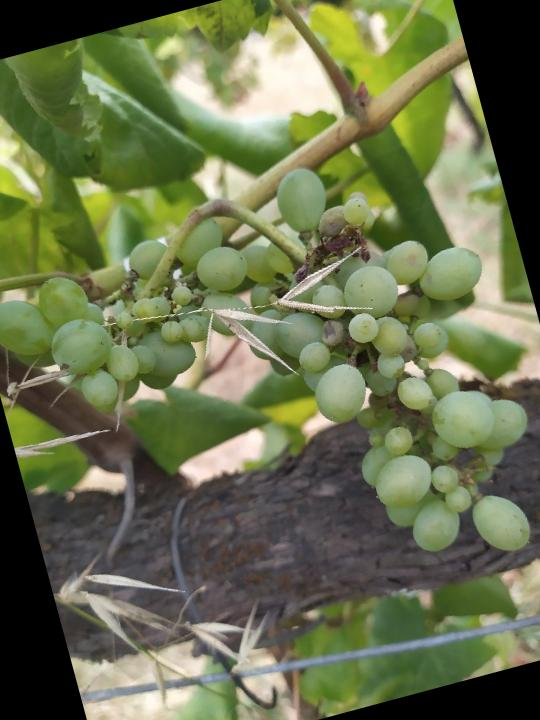grape: (0, 124, 540, 667)
